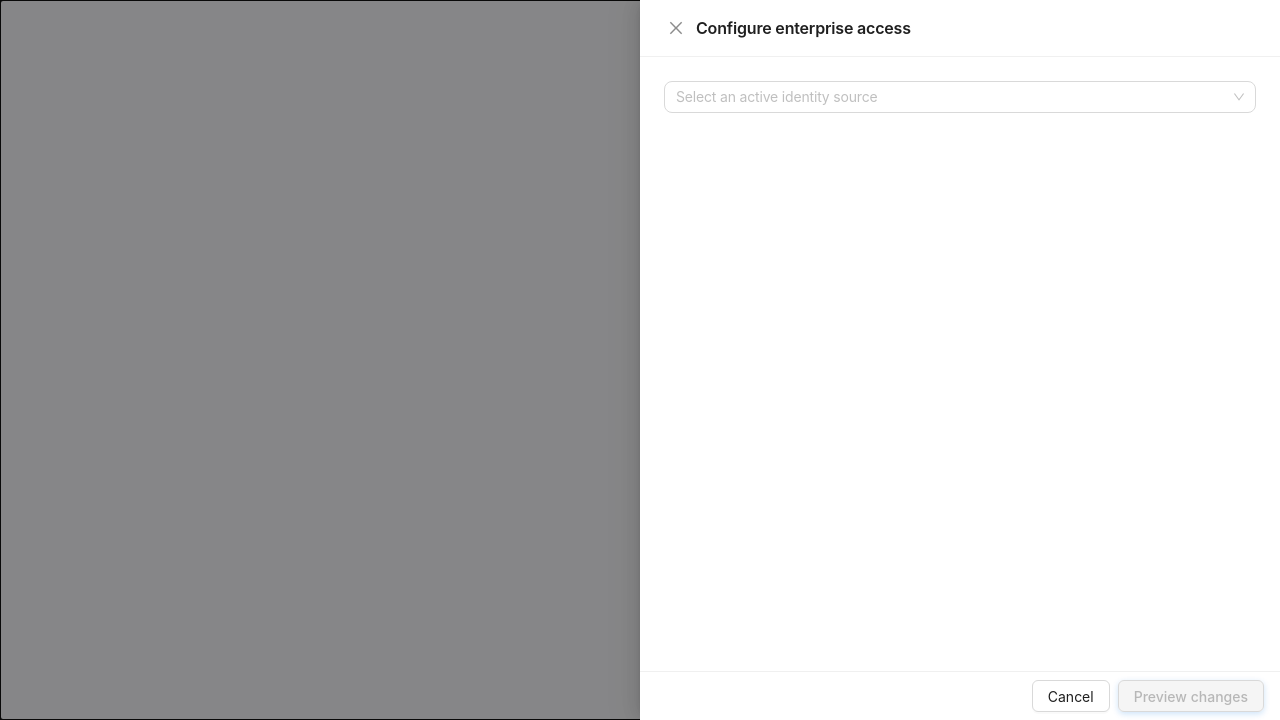
Test case: Agent enterprise access drawer › shows a stale source instead of hiding its persisted directory
The image size is (1280, 720).
Click the dropdown named "Enterprise identity source" at (777, 96), box [676,88,878,105]
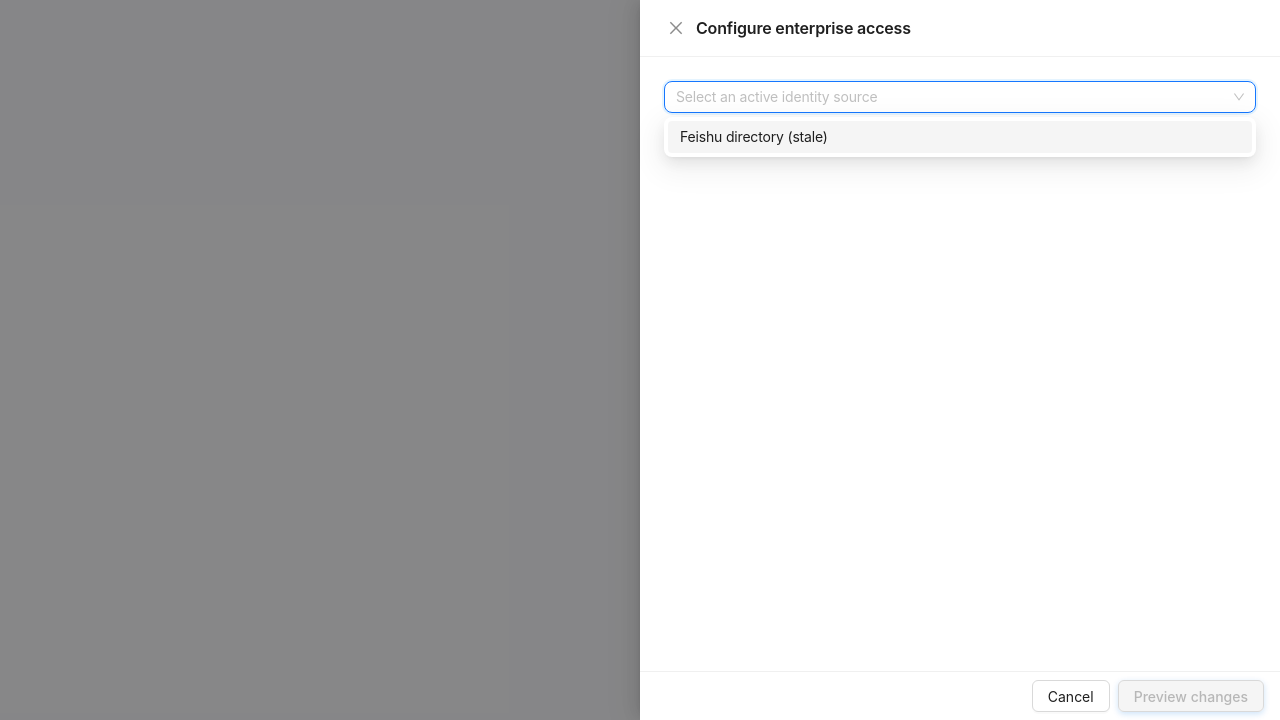
Expected: the text "Feishu directory (stale)" is shown, [680,128,828,145]
